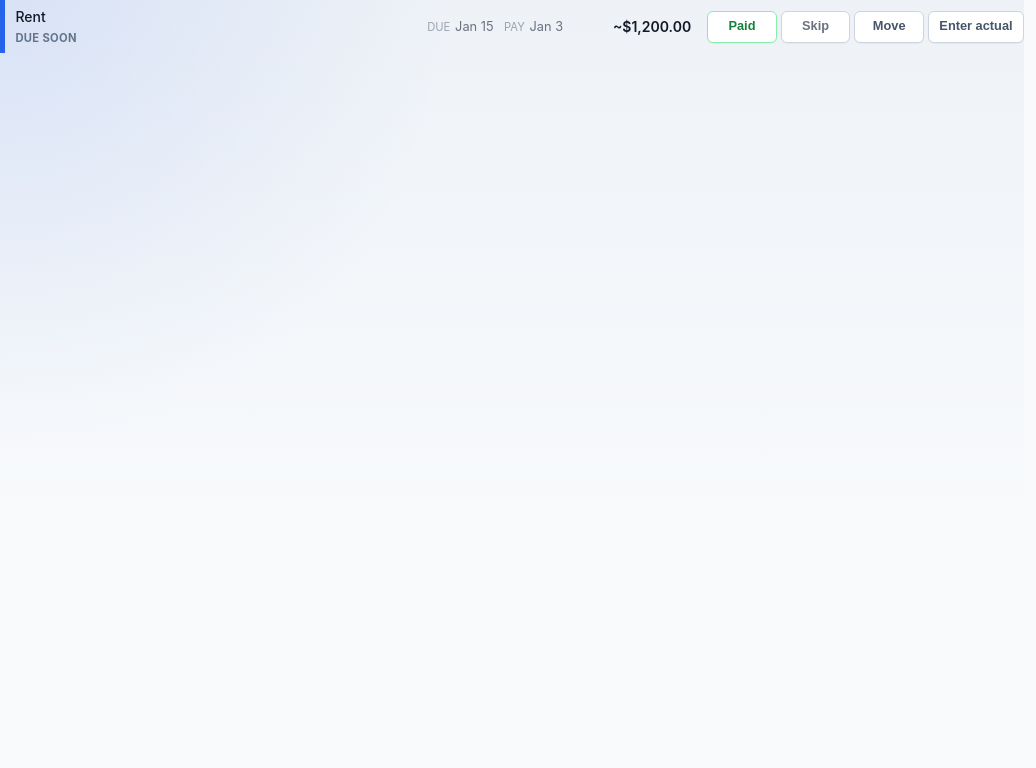
BillRow — variable bill › shows an error toast and keeps the editor open when saving the actual fails
Click the button "Enter actual": (976, 27) 928,11 -> 1024,43
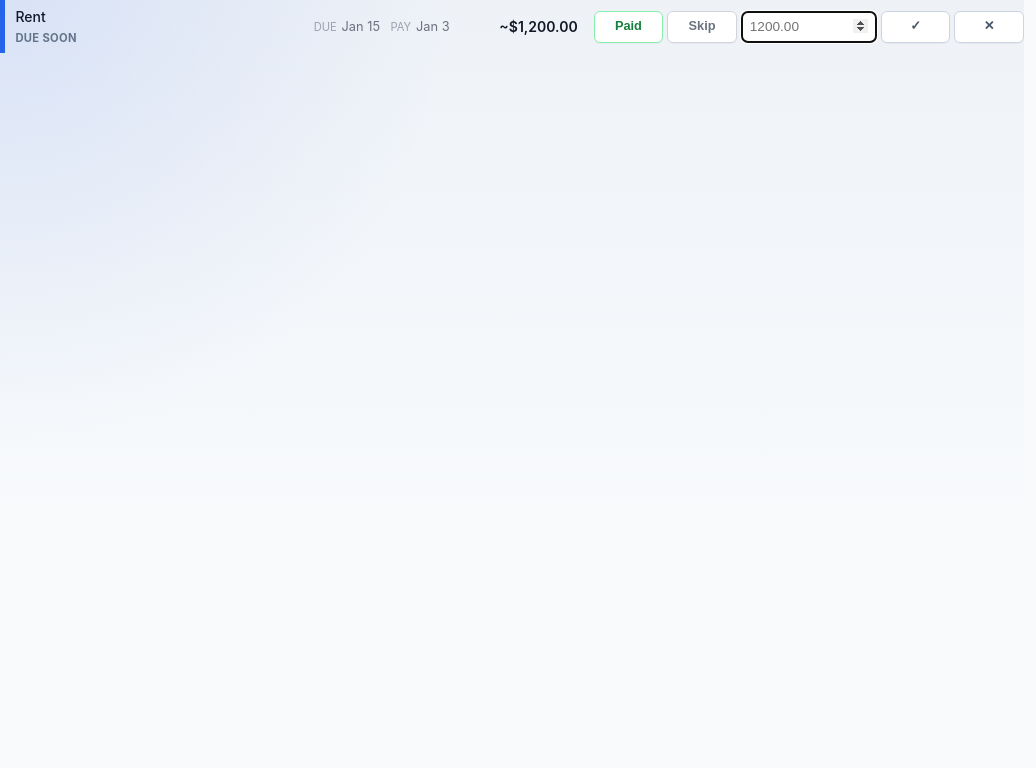
In the number field named "actual amount": (809, 27) 741,11 -> 877,43, type "95.50"
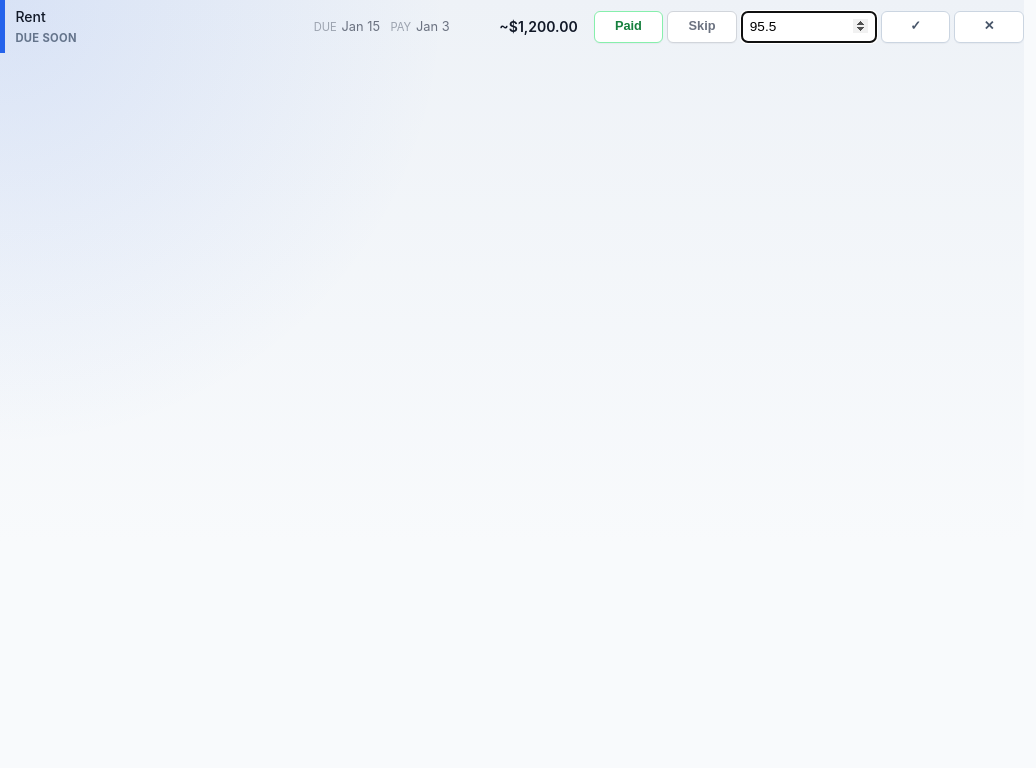
Click the button named "confirm actual": (916, 27) 881,11 -> 950,43
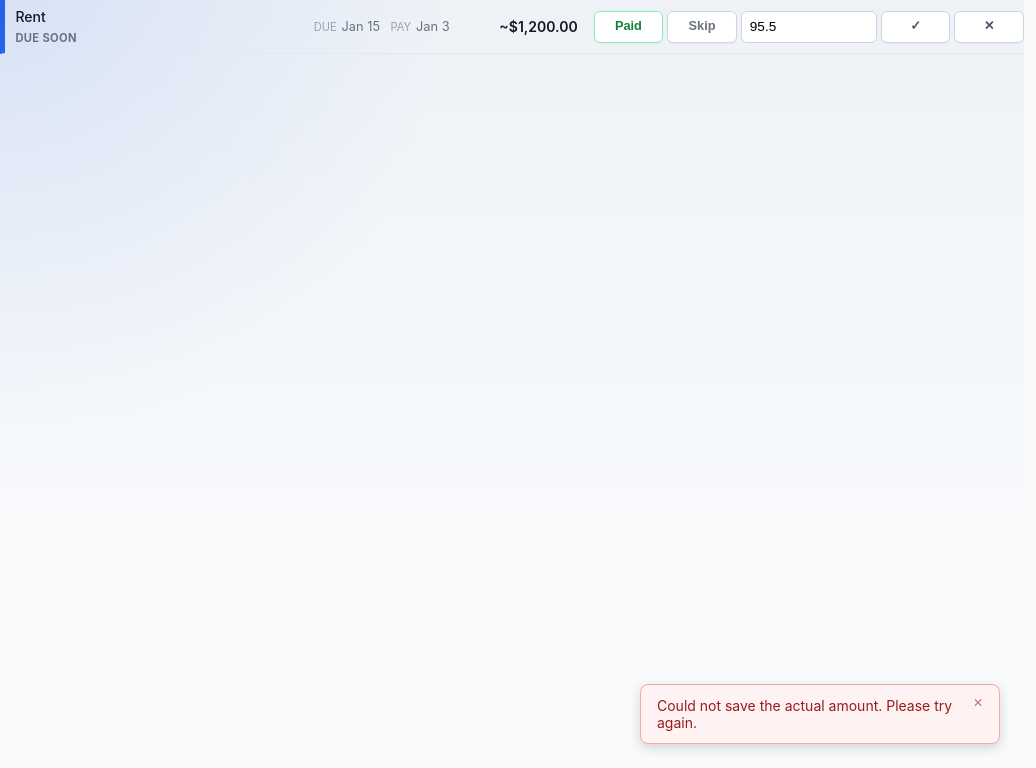
Now the number field named "actual amount" holds "95.5", box 741,11 -> 877,43
Now the text "Could not save the actual amount. Please try again." is shown, box 657,697 -> 961,731
